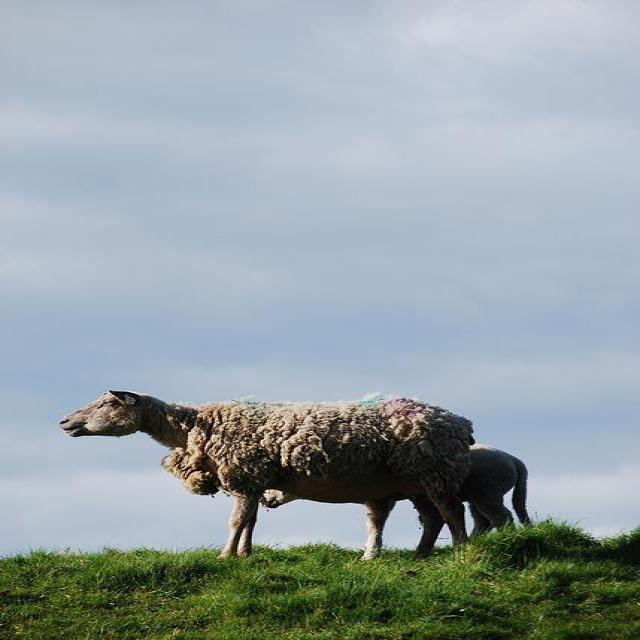Sheep: (52, 392, 482, 563), (456, 444, 538, 542)
